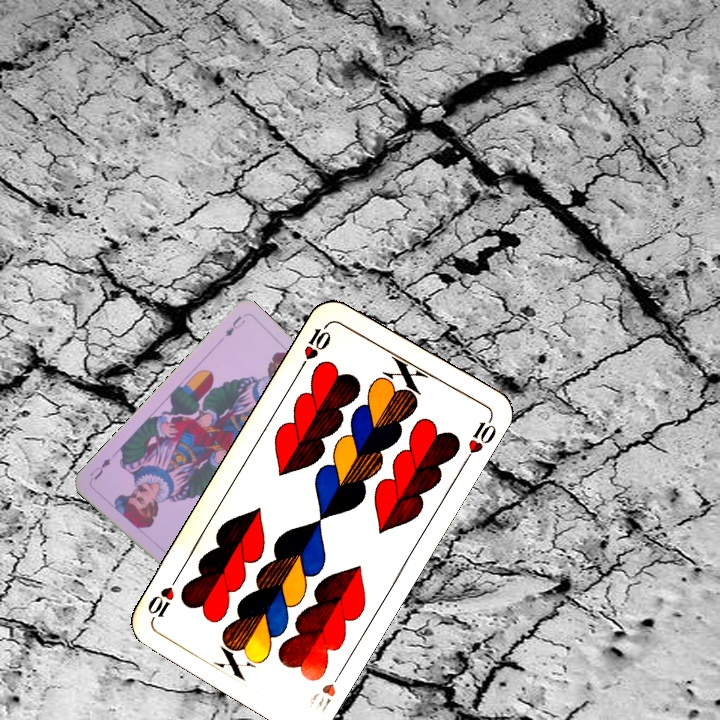EU: (221, 312, 248, 339)
H10: (296, 318, 334, 371), (314, 664, 346, 714)
